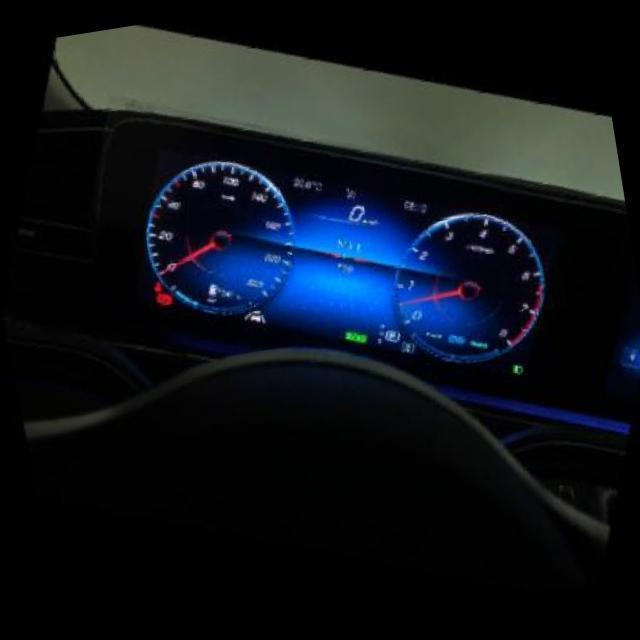Low fuel level: (202, 284, 218, 300)
